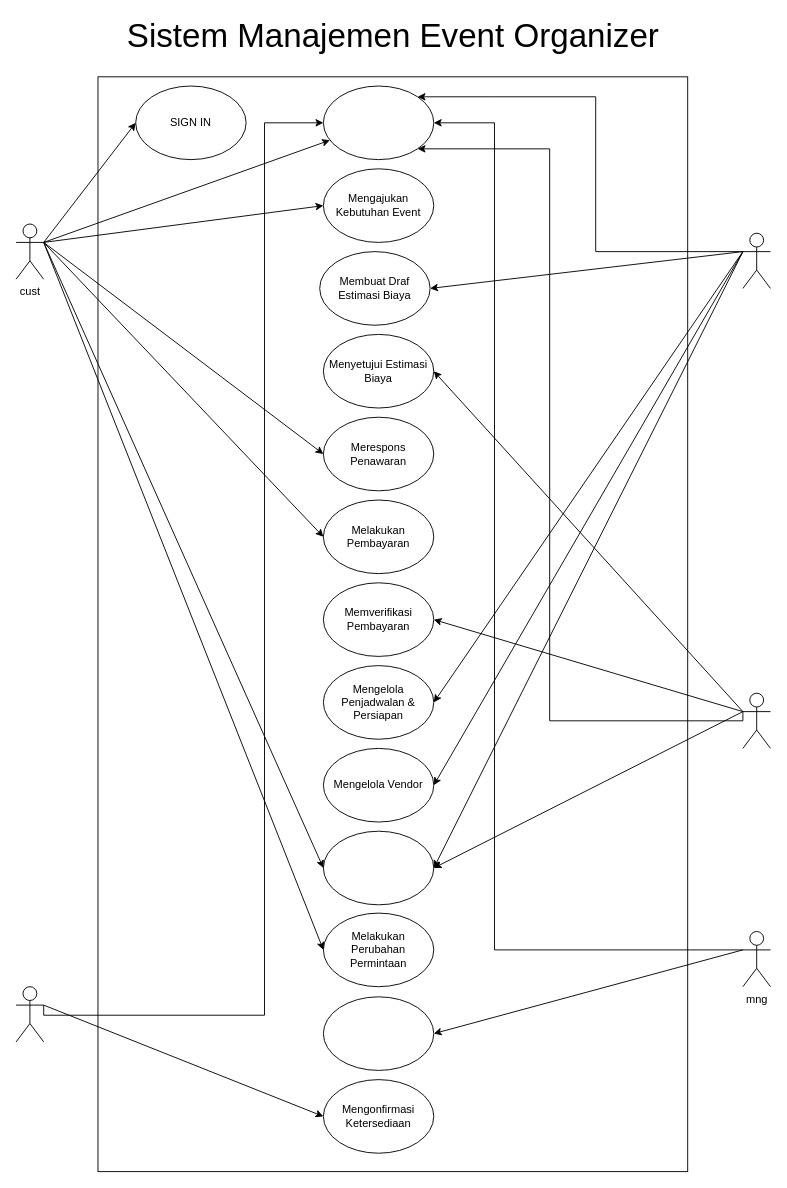
The diagram is 787 pixels wide and 1188 high, and some of its shapes have lost their labels. The centre of each missing label's shape, as x and y in pixels:
fin: the point at 756,720
LOGIN / LOGOUT: the point at 378,122
Melihat Laporan Bisnis: the point at 378,1033
Memantau Status Event: the point at 378,867
ops: the point at 756,260
vend: the point at 29,1014
